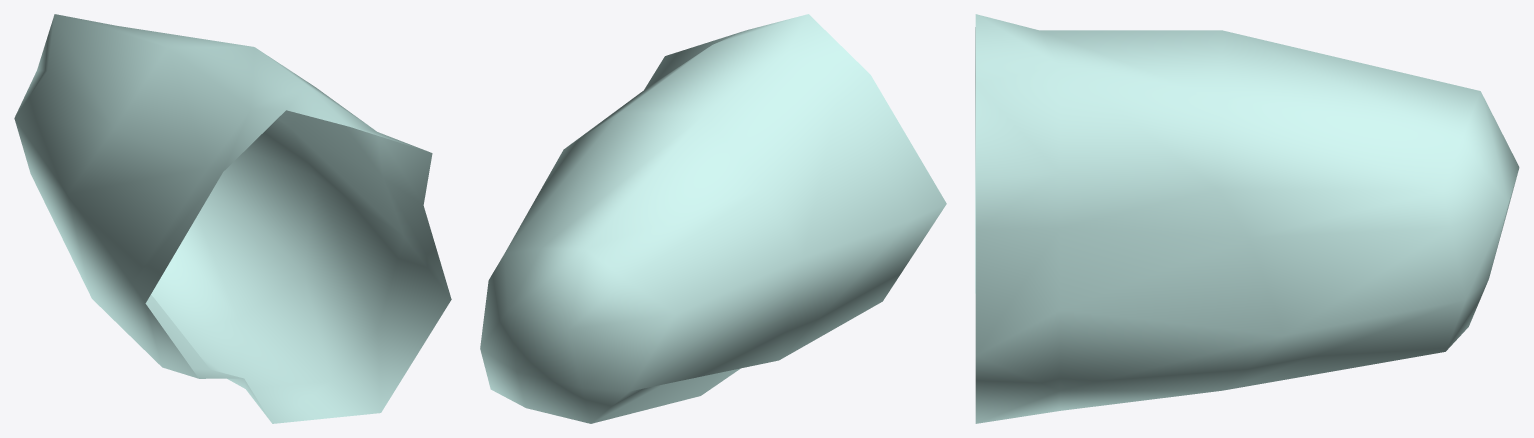
3 renders of one model, left to right at view 1: azimuth 30°, elevation 25°; view 2: azimuth 150°, elevation 25°; view 3: azimuth 270°, elevation 25°, orthographic. The views are drawn at different scales.
Parts seen in each view (by area): view 1: Object73; view 2: Object73; view 3: Object73.
Part boxes in pixels (x1,y1,x2,y2): Object73: (14,14,451,423); Object73: (480,14,946,423); Object73: (975,14,1519,423).
Bounding box in the file's own units: 15592 × 15703 × 21567.
